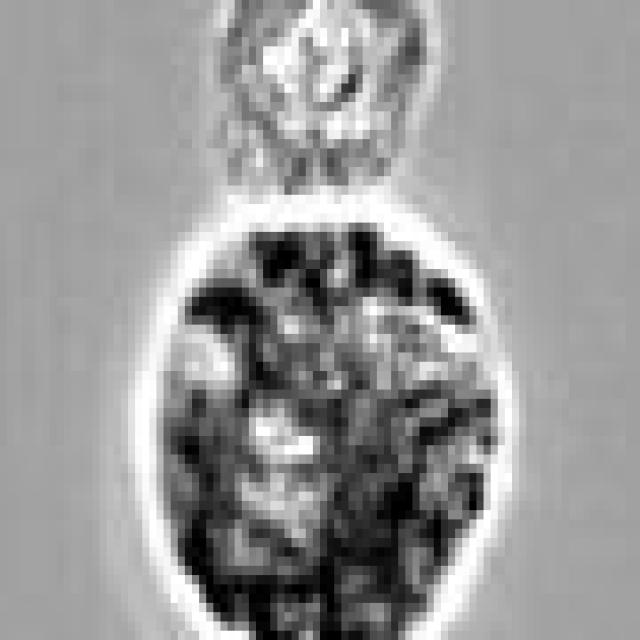Cancer Cell: (156, 213, 505, 640)
WBC: (213, 10, 427, 214)
